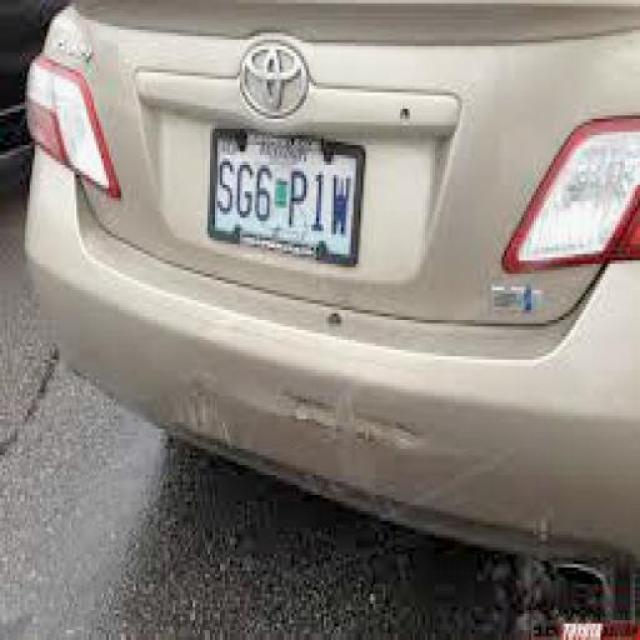Car-Damage: (150, 375, 449, 467)
